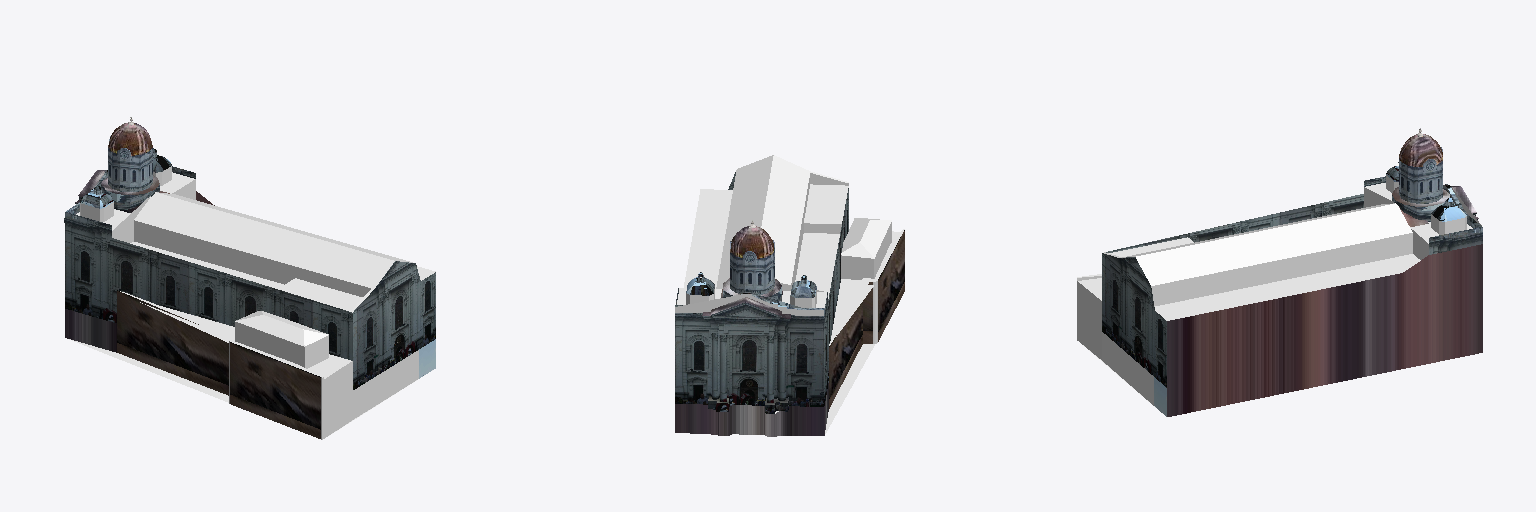
The picture shows the model from 3 angles: view 1: azimuth 30°, elevation 25°; view 2: azimuth 150°, elevation 25°; view 3: azimuth 270°, elevation 25°; orthographic projection.
Parts seen in each view (by area): view 1: Mesh39 Model, Mesh42 Model, Mesh38 Group4 Model; view 2: Mesh39 Model, Mesh42 Model, Mesh38 Group4 Model, Mesh1 Group1 Model, Mesh41 Model; view 3: Mesh39 Model, Mesh42 Model, Mesh1 Group1 Model.
Part boxes in pixels (bbox=[...]): Mesh39 Model: bbox=[64, 166, 435, 439]; Mesh42 Model: bbox=[101, 122, 159, 209]; Mesh38 Group4 Model: bbox=[235, 311, 328, 368]; Mesh39 Model: bbox=[675, 155, 904, 436]; Mesh42 Model: bbox=[723, 226, 781, 301]; Mesh38 Group4 Model: bbox=[841, 218, 891, 279]; Mesh1 Group1 Model: bbox=[686, 277, 714, 304]; Mesh41 Model: bbox=[778, 333, 785, 400]; Mesh39 Model: bbox=[1077, 166, 1482, 416]; Mesh42 Model: bbox=[1392, 134, 1449, 221]; Mesh1 Group1 Model: bbox=[1431, 203, 1466, 234].
Bounding box in the file's own units: 4711 × 3668 × 6697.
Materials: 8 (7 with a texture image).